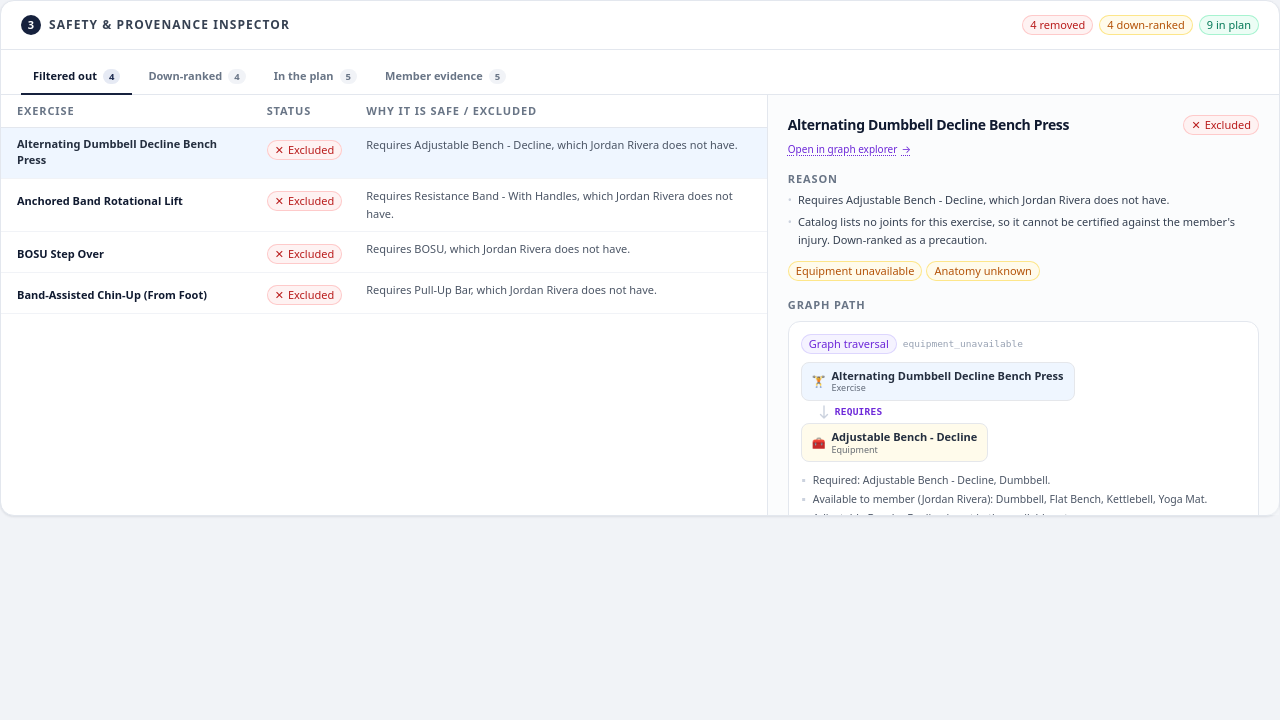
Test: SafetyInspector › shows member evidence on its own tab
Click the tab "Member evidence5": (446, 78) left=373, top=60, right=518, bottom=95
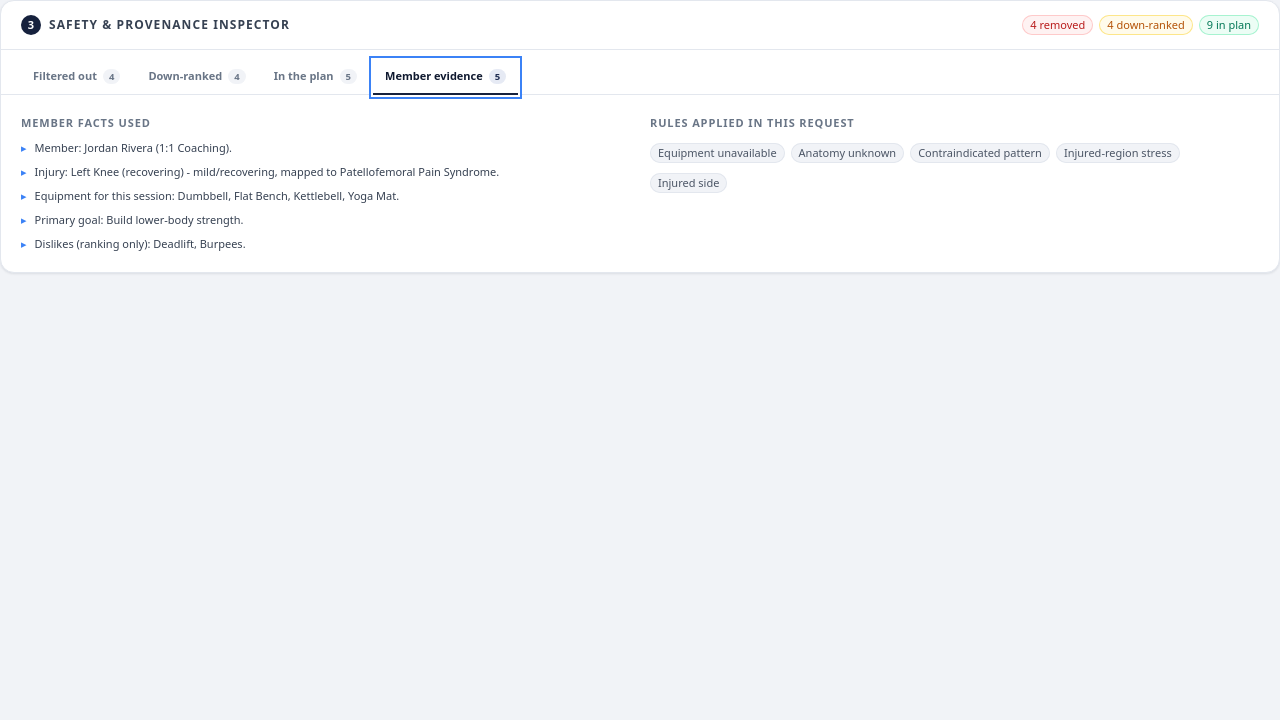
expect the text "Member facts used" is shown: met, box left=21, top=115, right=151, bottom=130
expect the list item "Member: Jordan Rivera (1:1 Coaching)." is shown: met, box left=34, top=140, right=232, bottom=155
